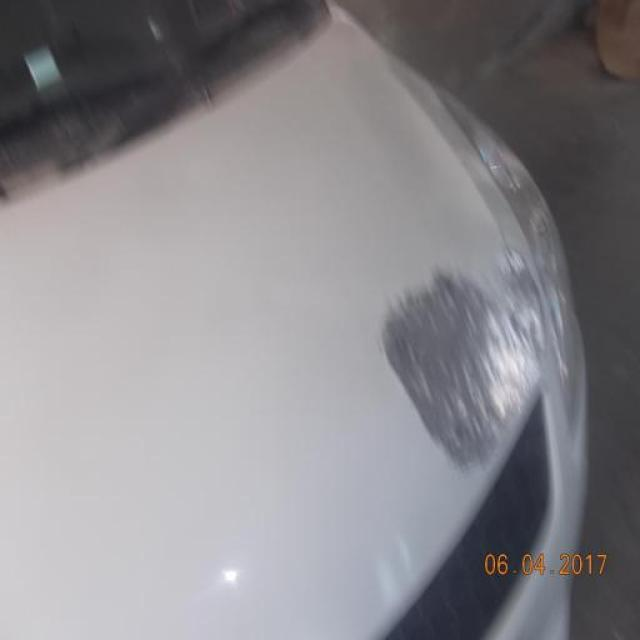scratch: (380, 251, 549, 484)
